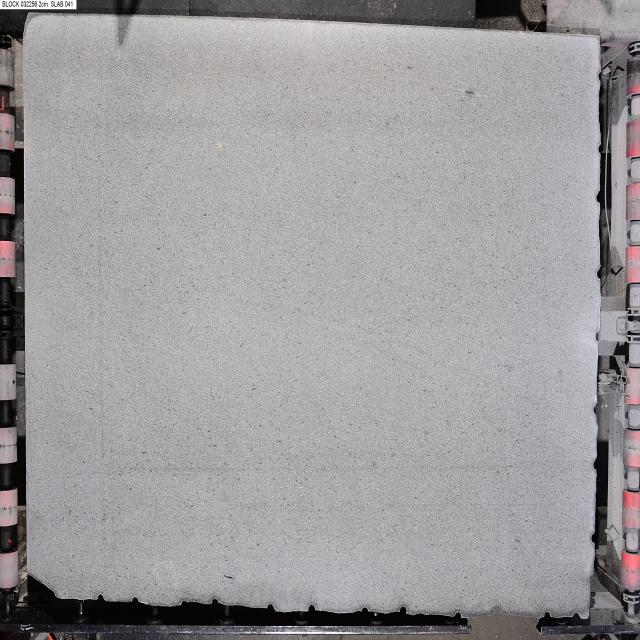chapa: (25, 15, 599, 614)
veio: (94, 592, 107, 607), (308, 603, 318, 617), (398, 604, 408, 618), (210, 598, 221, 610), (265, 604, 276, 615)
